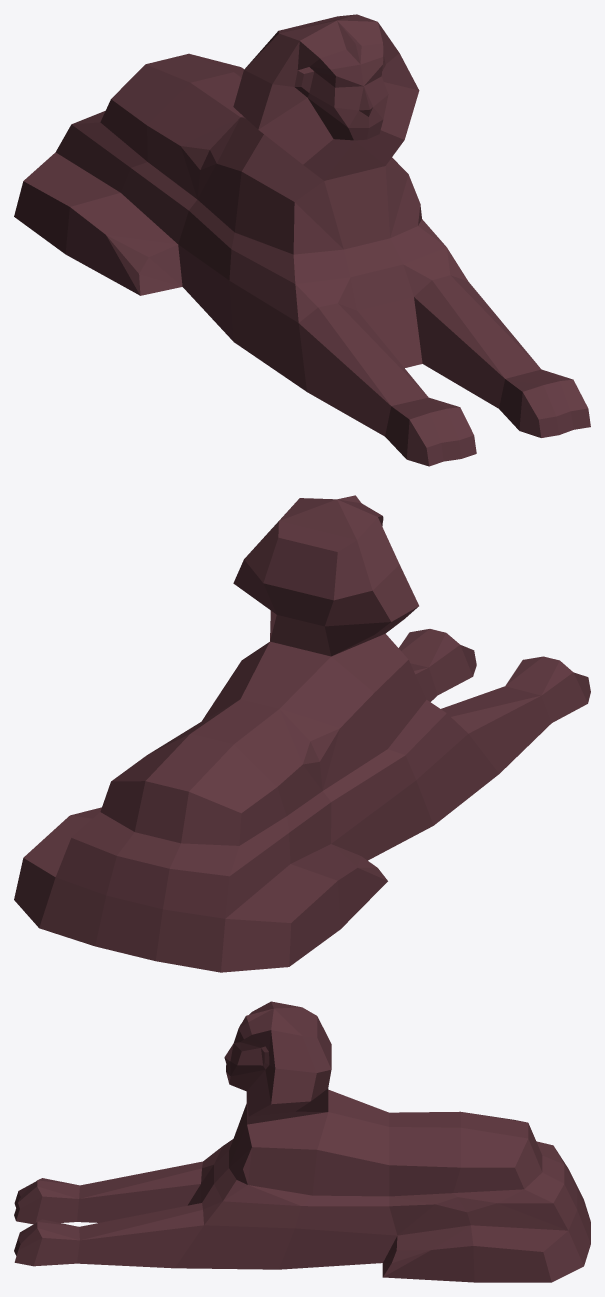
File: sphinx.fbx
3 renders of one model, top to bottom at view 1: azimuth 30°, elevation 25°; view 2: azimuth 150°, elevation 25°; view 3: azimuth 270°, elevation 25°, orthographic. The views are drawn at different scales.
Visible parts, largest first — view 1: sphinx; view 2: sphinx; view 3: sphinx.
Boxes of the visible parts, bbox=[...] form: sphinx: bbox=[14, 14, 590, 466]; sphinx: bbox=[14, 495, 590, 972]; sphinx: bbox=[14, 1001, 590, 1282].
Size of the model in its own units: 25 by 26.01 by 60.57.
